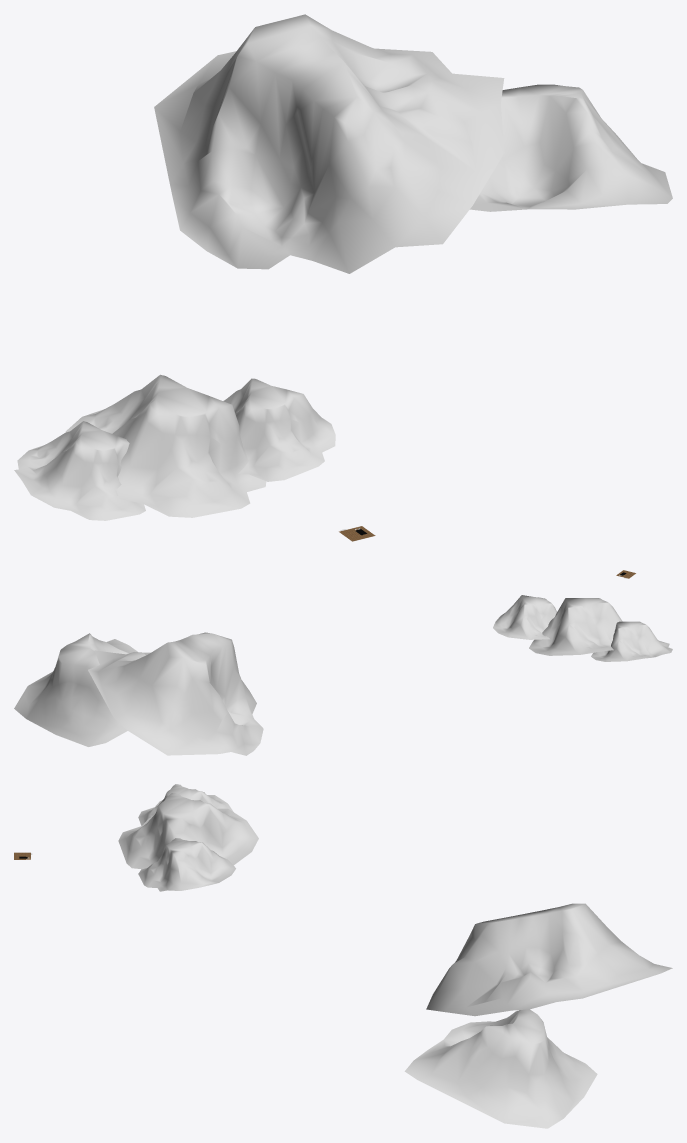
File: Menu.fbx
3 renders of one model, top to bottom at view 1: azimuth 30°, elevation 25°; view 2: azimuth 150°, elevation 25°; view 3: azimuth 270°, elevation 25°, orthographic. The views are drawn at different scales.
Parts seen in each view (by area): view 1: mountain1__0, mountain3, mountain4__0.002, mountain4__0.001, mountain4__0; view 2: mountain1__0, mountain3, mountain4__0.002, mountain4__0, mountain4__0.001; view 3: mountain1__0, mountain3, mountain4__0.002, mountain4__0, mountain4__0.001.
Boxes of the visible parts, box(x1,y1,x2,y2) form: mountain1__0: box(154, 14, 504, 273); mountain3: box(470, 84, 672, 211); mountain4__0.002: box(65, 374, 266, 517); mountain4__0.001: box(14, 421, 145, 520); mountain4__0: box(223, 378, 335, 481); mountain1__0: box(88, 632, 263, 755); mountain3: box(14, 633, 137, 746); mountain4__0.002: box(529, 598, 622, 655); mountain4__0: box(493, 595, 556, 639); mountain4__0.001: box(591, 621, 672, 661); mountain1__0: box(426, 903, 672, 1016); mountain3: box(404, 1009, 597, 1128); mountain4__0.002: box(118, 793, 258, 869); mountain4__0: box(138, 838, 235, 891); mountain4__0.001: box(138, 784, 233, 825).
Bounding box in the file's own units: 1122975 × 247471 × 1140482.
